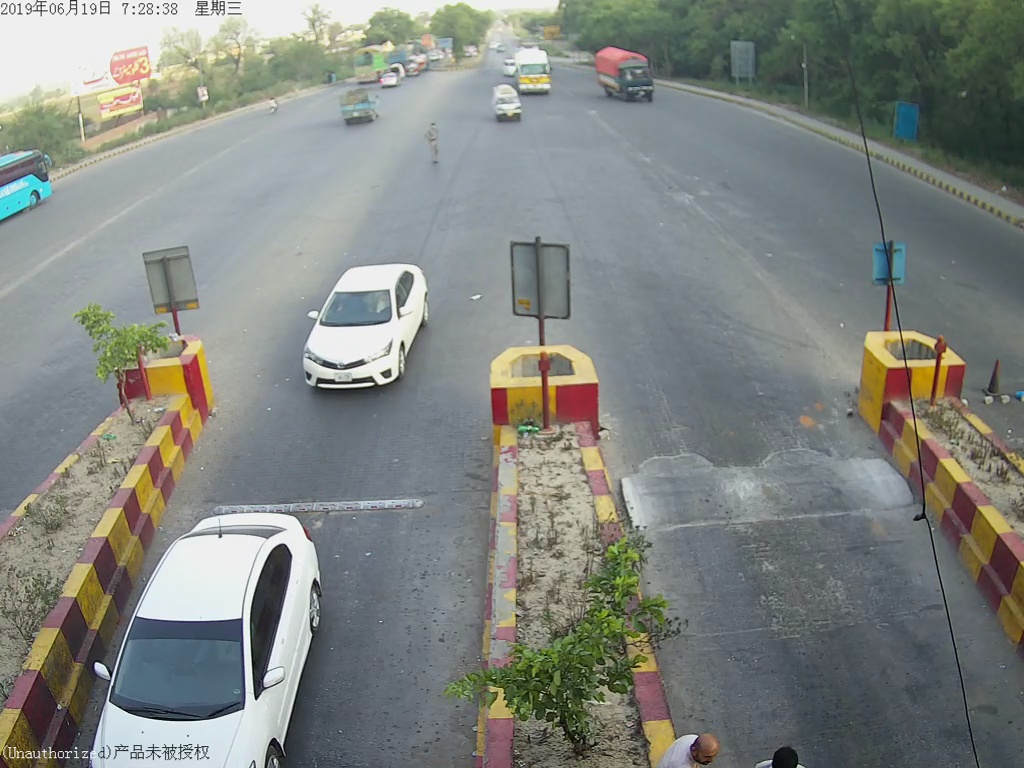Cat-1: (290, 259, 440, 403), (486, 84, 531, 124)
